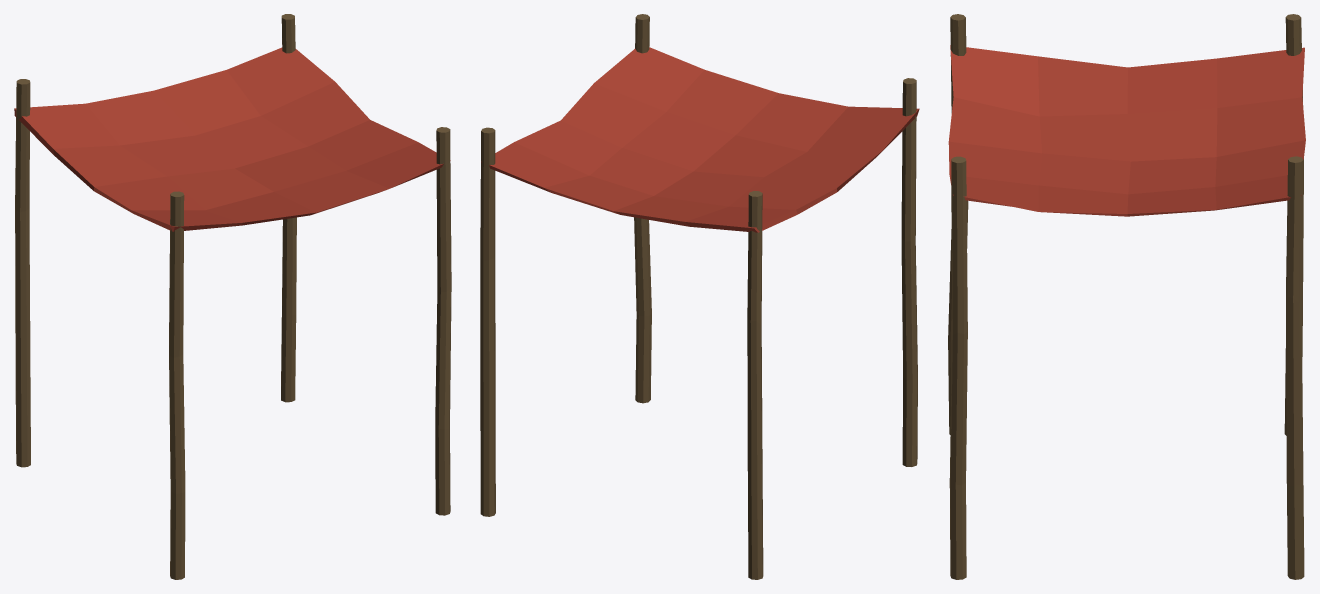
The model's file is island_canopy_straight.fbx.
The picture shows the model from 3 angles, left to right: view 1: azimuth 30°, elevation 25°; view 2: azimuth 150°, elevation 25°; view 3: azimuth 270°, elevation 25°; orthographic projection. The views are drawn at different scales.
Visible parts, largest first — view 1: Cylinder.012; view 2: Cylinder.012; view 3: Cylinder.012.
Boxes of the visible parts, x1,y1,x2,y2 form: Cylinder.012: (14, 14, 451, 579); Cylinder.012: (480, 14, 919, 579); Cylinder.012: (948, 14, 1305, 579).
Bounding box in the file's own units: 3.02 × 3.85 × 2.99.
